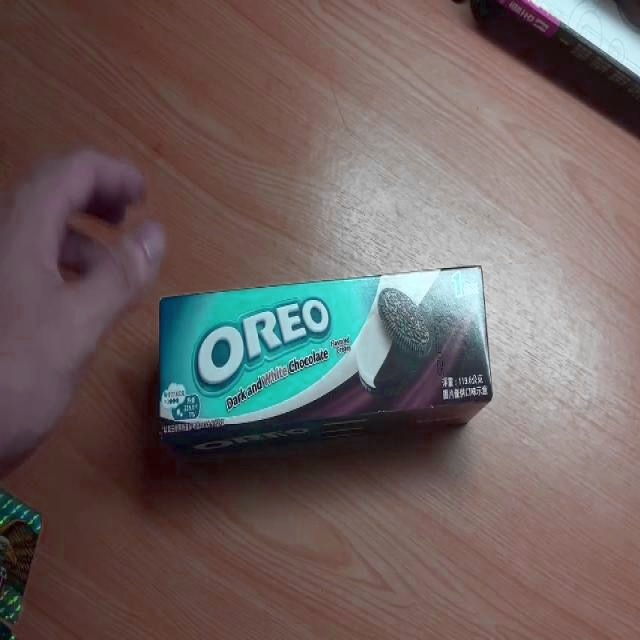Oreo: (155, 261, 492, 446)
